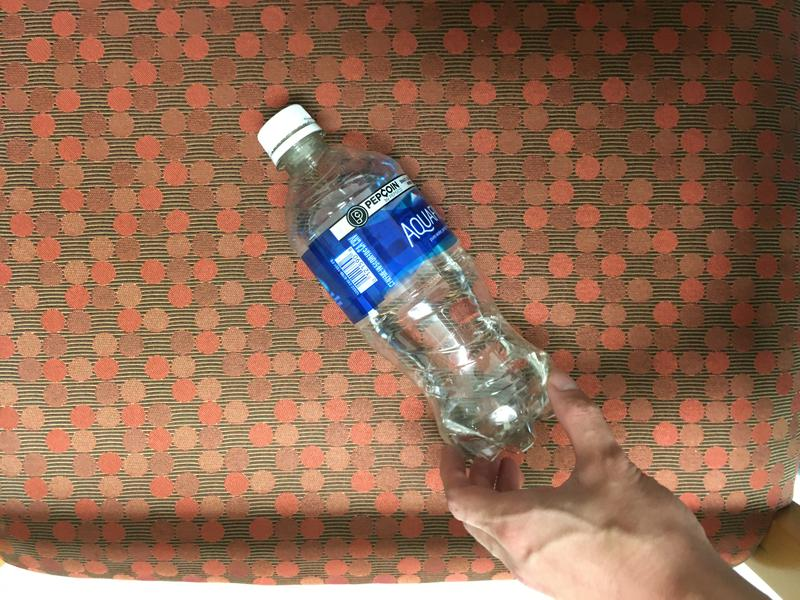bottle: (256, 103, 559, 466)
